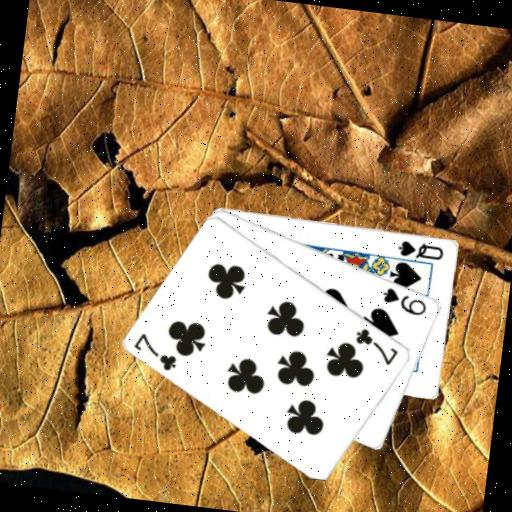7C: (129, 329, 182, 374), (350, 324, 403, 368)
9S: (378, 284, 430, 318)
QS: (394, 237, 446, 263)
